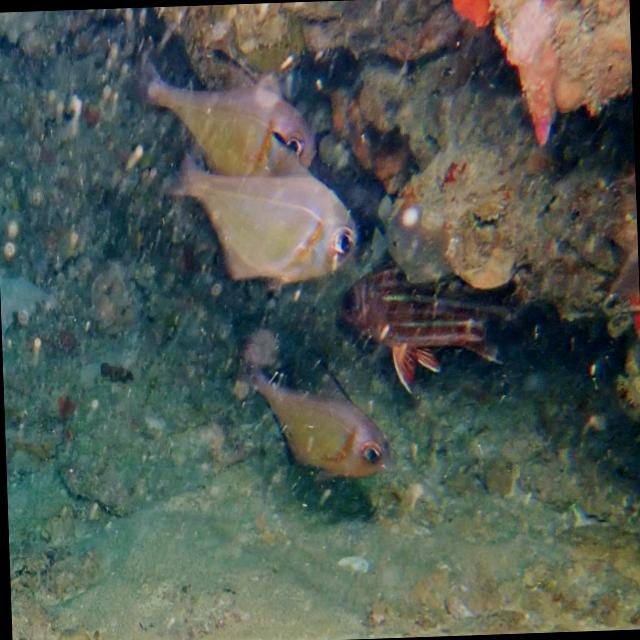Asker Baligi: (326, 253, 542, 399)
